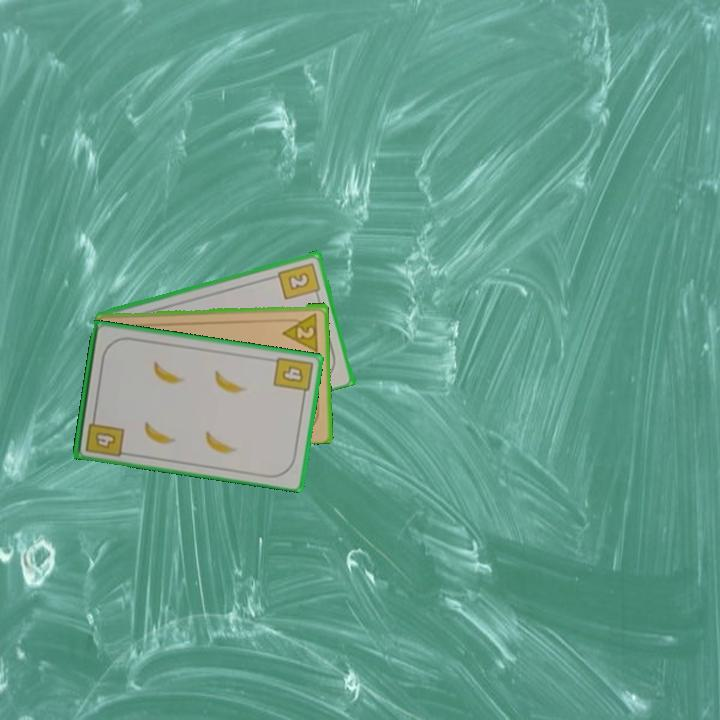2b: (275, 259, 323, 302)
2p: (279, 308, 321, 352)
4b: (82, 411, 127, 460), (270, 353, 315, 401)
